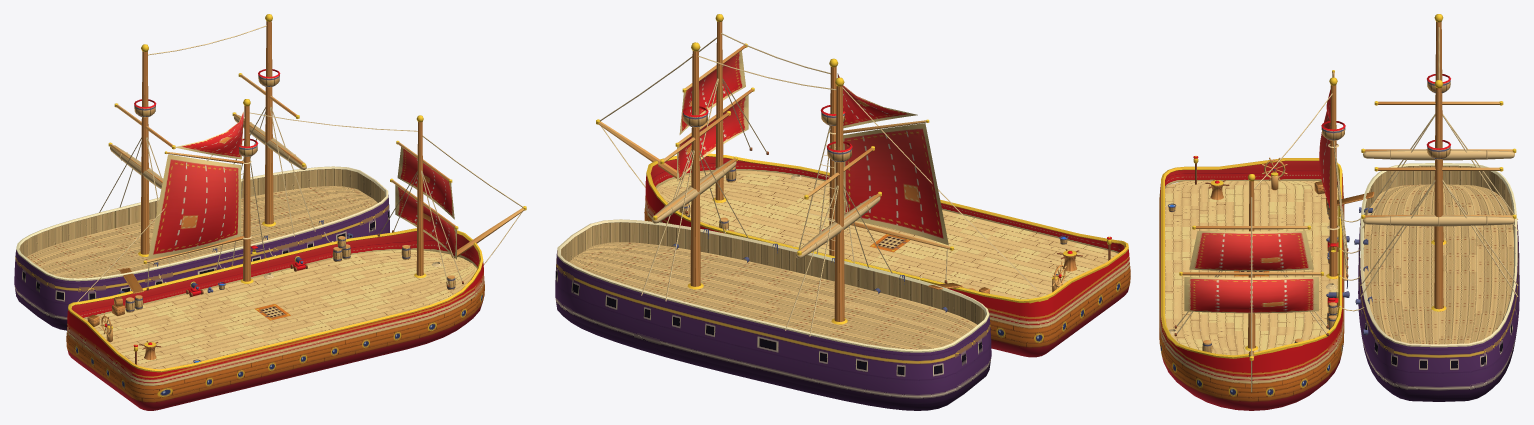
File: deck_arena.glb
3 renders of one model, left to right at view 1: azimuth 30°, elevation 25°; view 2: azimuth 150°, elevation 25°; view 3: azimuth 270°, elevation 25°, orthographic. The views are drawn at different scales.
Visible parts, largest first — view 1: Deck, SailMain, SailFore1, SailFore0, SailTop, SailEnemy1, SailEnemy0; view 2: Deck, SailMain, SailFore1, SailFore0, SailTop, SailEnemy1, SailEnemy0; view 3: Deck, SailFore0, SailFore1, SailEnemy1, SailEnemy0, SailMain.
Part boxes in pixels (x1,y1,x2,y2): Deck: (14,14,526,410); SailMain: (148,154,240,259); SailFore1: (397,147,454,219); SailFore0: (395,185,456,259); SailTop: (174,111,243,159); SailEnemy1: (234,115,306,169); SailEnemy0: (110,145,163,188); Deck: (555,14,1130,410); SailMain: (843,123,948,245); SailFore1: (679,50,745,134); SailFore0: (677,95,748,181); SailTop: (837,73,917,128); SailEnemy1: (651,159,736,223); SailEnemy0: (795,195,880,258); Deck: (1159,14,1519,410); SailFore0: (1184,277,1318,313); SailFore1: (1189,231,1313,271); SailEnemy1: (1363,215,1514,226); SailEnemy0: (1363,149,1514,160); SailMain: (1319,111,1330,208).
Size of the model in its own units: 32.68 by 18.2 by 21.95.
Materials: 4 (4 with a texture image).
